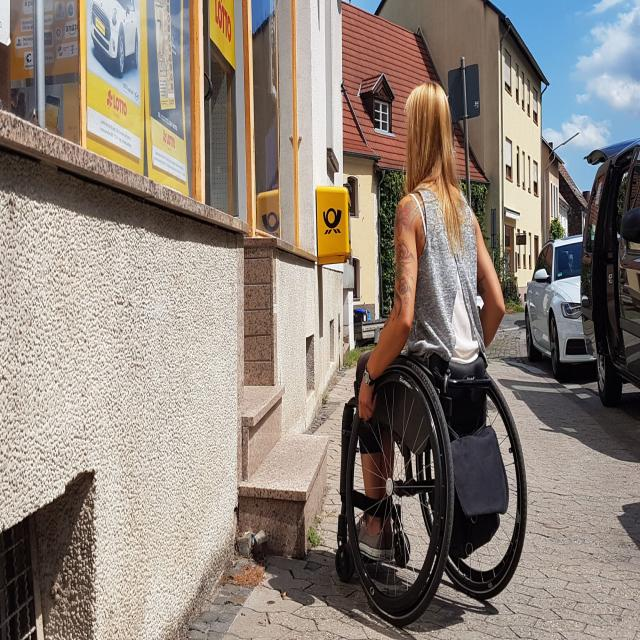wheelchairs: (333, 296, 530, 628)
